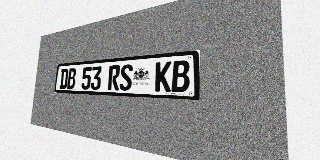3: (90, 66, 102, 90)
5: (81, 67, 92, 90)
B: (171, 60, 190, 92), (67, 68, 76, 89)
D: (59, 68, 68, 89)
K: (155, 61, 172, 92)
R: (108, 65, 120, 90)
S: (119, 64, 133, 91)
